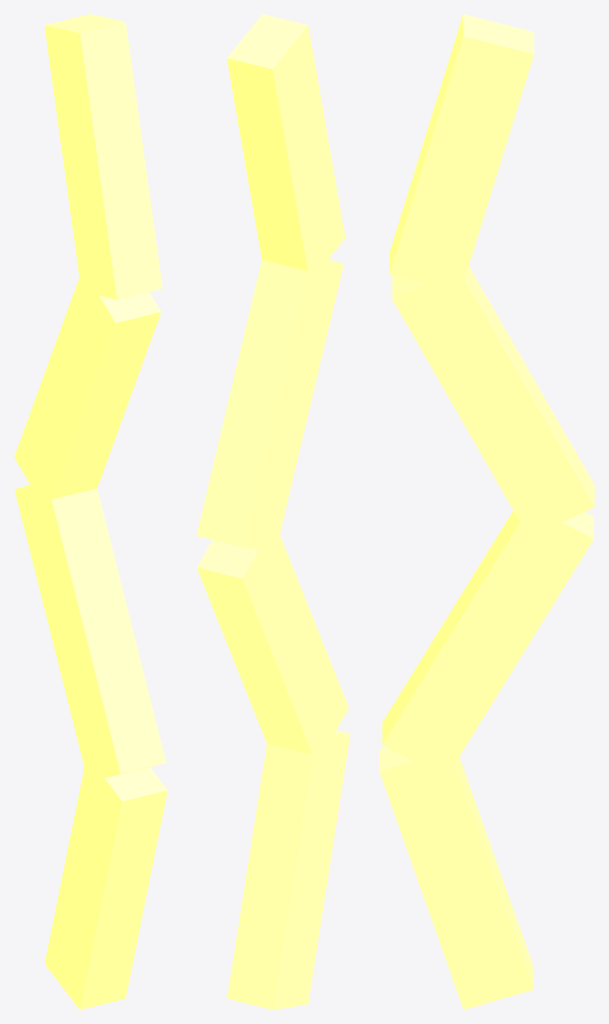
The model's file is Facet_Section_3.glb.
3 views of the same model, side by side, from view 1: azimuth 30°, elevation 25°; view 2: azimuth 150°, elevation 25°; view 3: azimuth 270°, elevation 25° (orthographic).
Parts seen in each view (by area): view 1: Facet; view 2: Facet; view 3: Facet.
Part boxes in pixels (x1=…): Facet: x1=14, y1=14, x2=167, y2=1009; Facet: x1=196, y1=14, x2=350, y2=1009; Facet: x1=379, y1=14, x2=594, y2=1009.
Size of the model in its own units: 0.13 by 2.65 by 0.5314.
